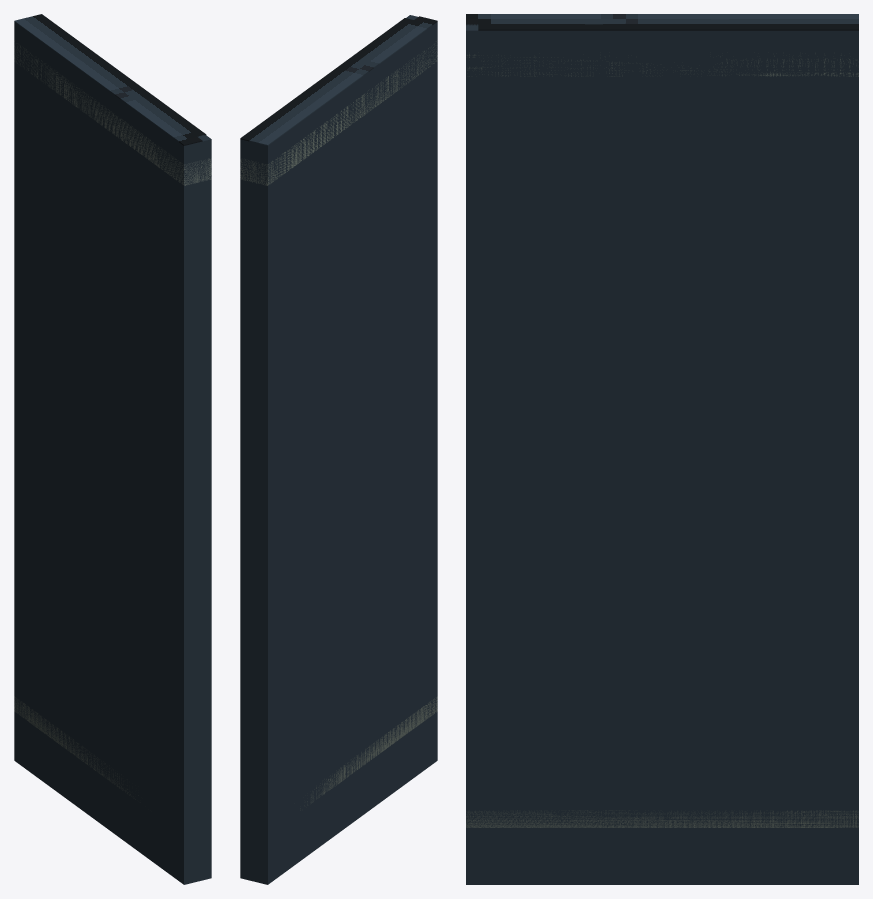
Rendered from CMU3DInteriorVehicleBoxVanFront1.glb.
3 renders of one model, left to right at view 1: azimuth 30°, elevation 25°; view 2: azimuth 150°, elevation 25°; view 3: azimuth 270°, elevation 25°, orthographic. The views are drawn at different scales.
Visible parts, largest first — view 1: cabin bulkhead, cabin bulkhead source finish, upper armor trim, lower armor trim; view 2: cabin bulkhead, cabin bulkhead source finish, upper armor trim, lower armor trim; view 3: cabin bulkhead, cabin bulkhead source finish, lower armor trim.
Part boxes in pixels (bbox=[...]): cabin bulkhead: bbox=[14, 22, 211, 884]; cabin bulkhead source finish: bbox=[14, 14, 206, 145]; upper armor trim: bbox=[14, 41, 211, 185]; lower armor trim: bbox=[14, 696, 140, 802]; cabin bulkhead: bbox=[240, 15, 437, 884]; cabin bulkhead source finish: bbox=[240, 16, 437, 145]; upper armor trim: bbox=[240, 41, 437, 185]; lower armor trim: bbox=[300, 696, 437, 810]; cabin bulkhead: bbox=[466, 24, 858, 884]; cabin bulkhead source finish: bbox=[466, 14, 858, 30]; lower armor trim: bbox=[466, 810, 858, 827].
Size of the model in its own units: 0.0938 by 2.4 by 1.
Materials: 4 (1 with a texture image).
